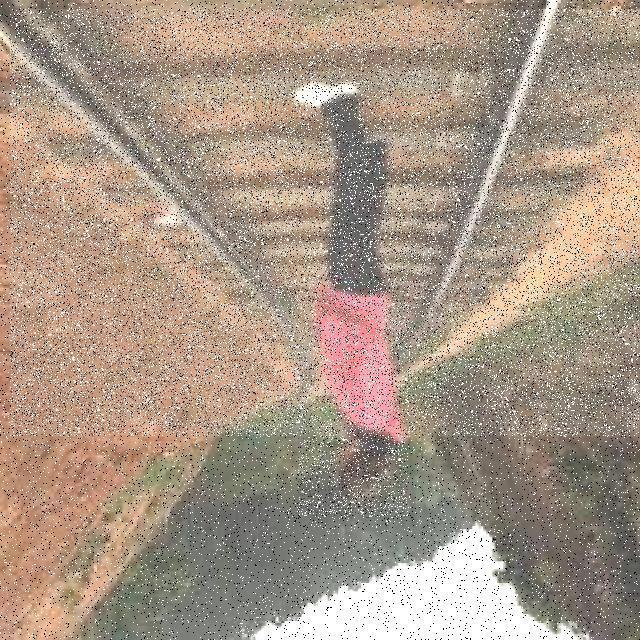rail: (12, 10, 640, 437)
